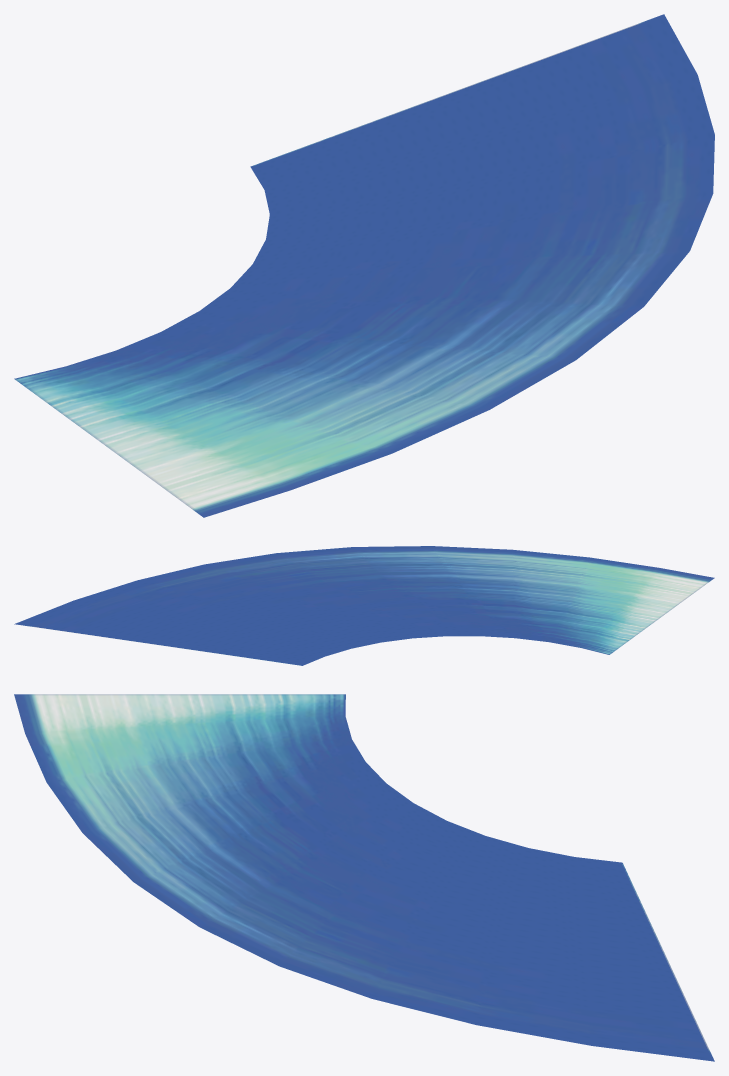
3 renders of one model, top to bottom at view 1: azimuth 30°, elevation 25°; view 2: azimuth 150°, elevation 25°; view 3: azimuth 270°, elevation 25°, orthographic. The views are drawn at different scales.
Visible parts, largest first — view 1: Plane001; view 2: Plane001; view 3: Plane001.
Part boxes in pixels (x1,y1,x2,y2): Plane001: [14, 14, 714, 517]; Plane001: [14, 546, 714, 665]; Plane001: [14, 694, 714, 1061].
Size of the model in its own units: 250 by 2.27e-06 by 201.
1 material, 1 textured.
